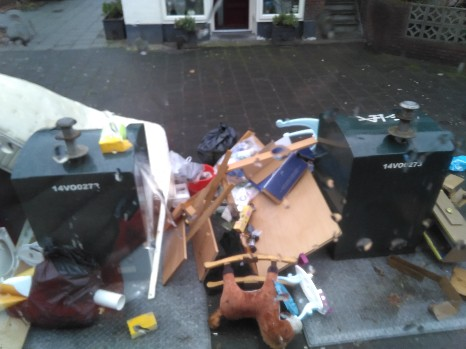Container: (319, 112, 428, 257), (32, 130, 143, 255)
Rest: (5, 78, 170, 163), (242, 139, 340, 264), (222, 273, 325, 338), (169, 175, 228, 266), (41, 265, 129, 326), (182, 132, 244, 192), (436, 189, 462, 277)
